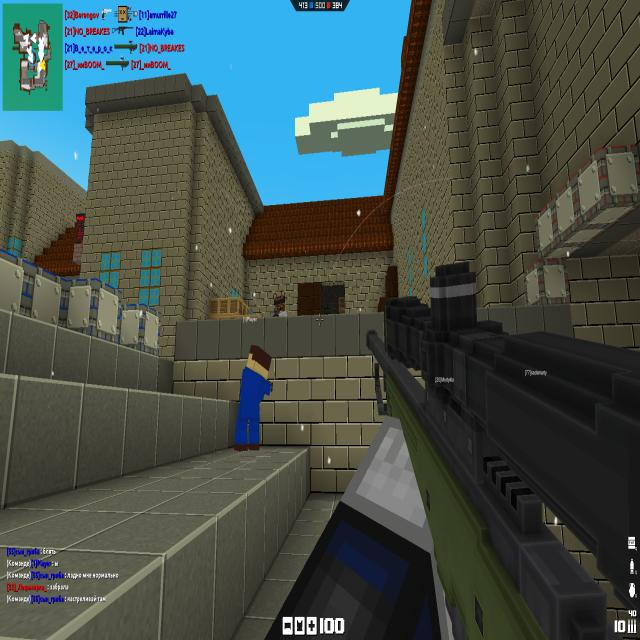player: (234, 345, 272, 453), (273, 291, 286, 318), (75, 213, 85, 243)
